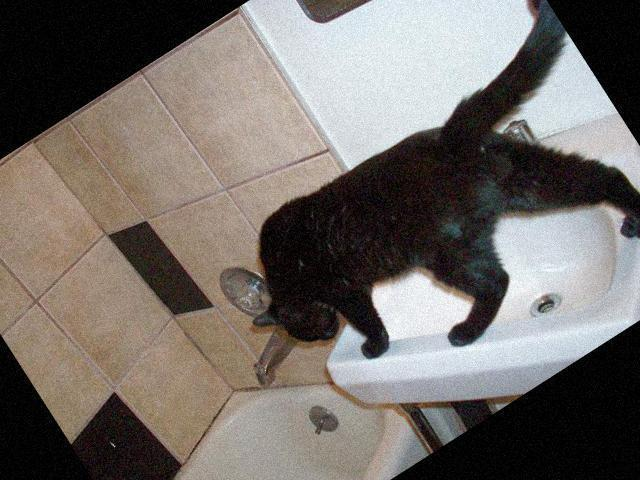Lavamanos: (265, 55, 640, 471)
